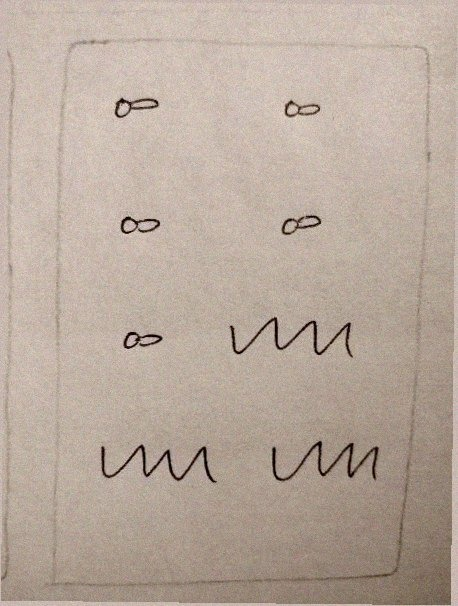switch: (106, 319, 178, 365), (104, 81, 172, 126), (106, 198, 170, 244), (271, 83, 329, 130), (269, 204, 332, 242)
text: (87, 431, 224, 497), (215, 308, 360, 369), (258, 427, 388, 491)
